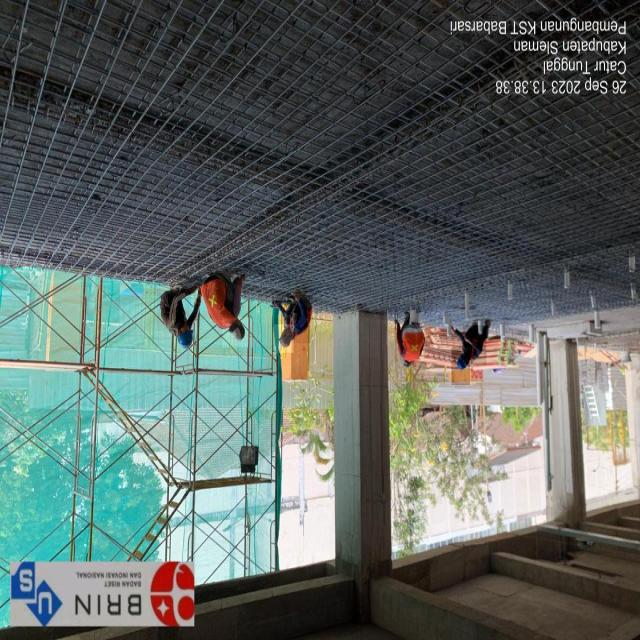Helmet: (156, 285, 192, 331), (173, 323, 203, 357), (222, 318, 252, 348), (452, 347, 470, 385), (274, 324, 294, 353)
Safety Vest: (198, 268, 240, 324), (398, 318, 426, 366), (287, 295, 313, 343), (463, 326, 487, 364)
